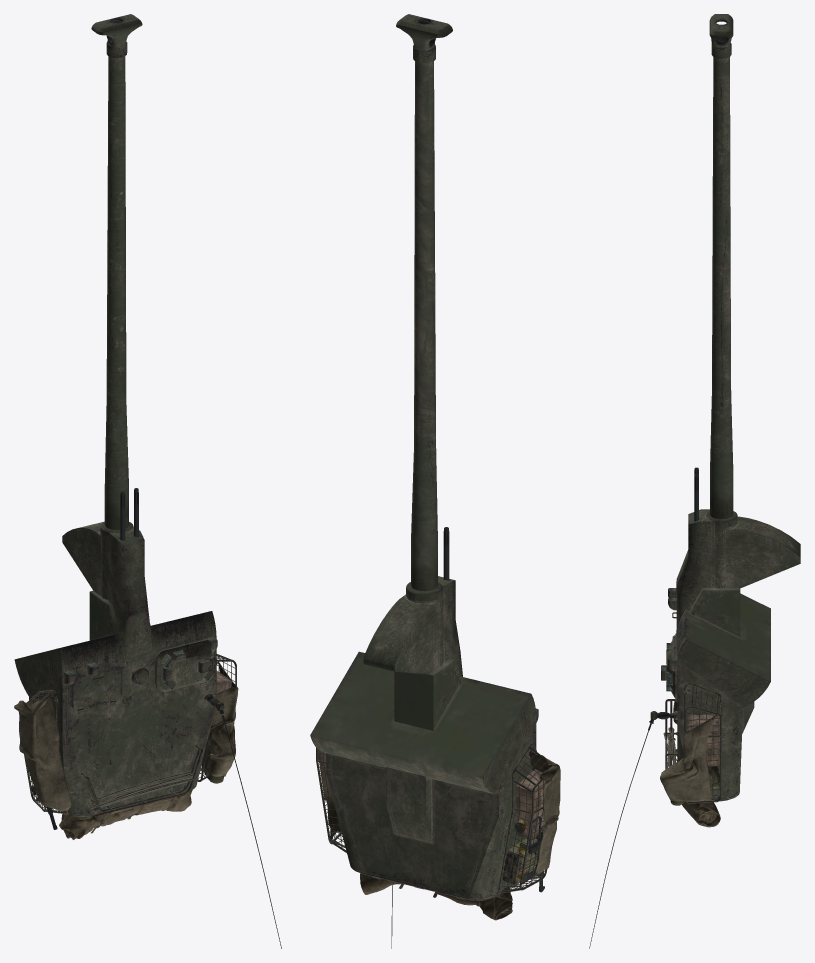
The model's file is Gun_01.glb.
3 renders of one model, left to right at view 1: azimuth 30°, elevation 25°; view 2: azimuth 150°, elevation 25°; view 3: azimuth 270°, elevation 25°, orthographic. The views are drawn at different scales.
Visible parts, largest first — view 1: set_0_group_0; view 2: set_0_group_0; view 3: set_0_group_0.
Boxes of the visible parts, box(x1,y1,x2,y2) form: set_0_group_0: box(14, 14, 281, 948); set_0_group_0: box(310, 14, 560, 948); set_0_group_0: box(589, 14, 800, 948).
Size of the model in its own units: 2.45 by 10.02 by 2.18.
1 material, 1 textured.
